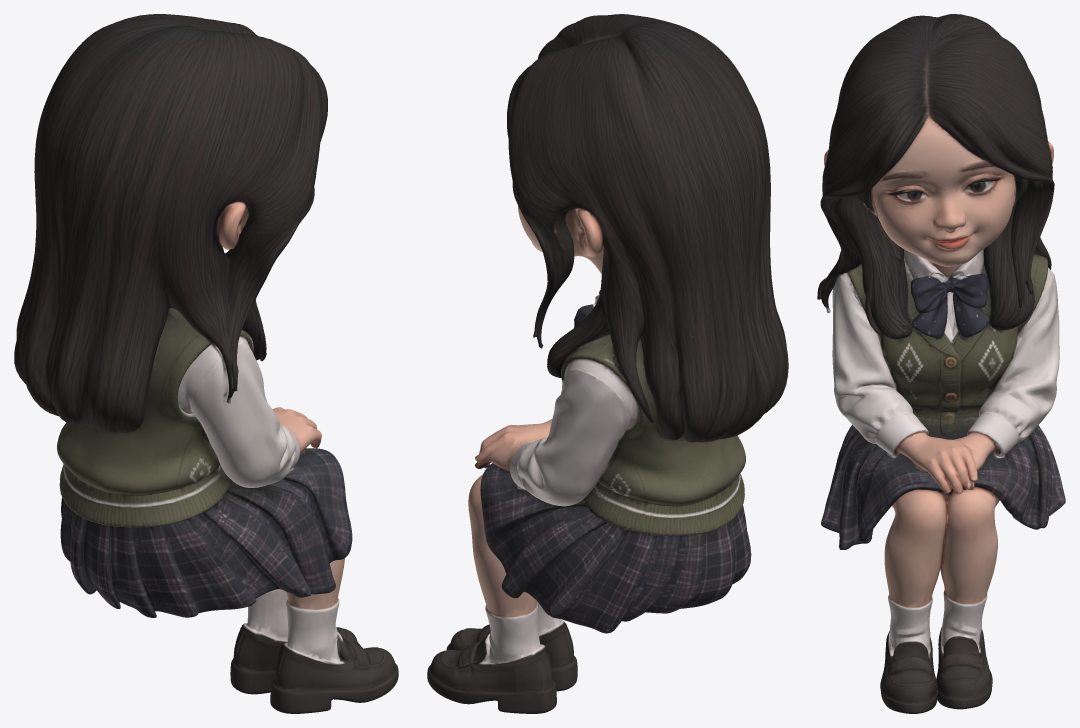
Rendered from 钟梦菲.glb.
The picture shows the model from 3 angles, left to right: view 1: azimuth 30°, elevation 25°; view 2: azimuth 150°, elevation 25°; view 3: azimuth 270°, elevation 25°; orthographic projection. The views are drawn at different scales.
Parts seen in each view (by area): view 1: tripo_node_4d95e8ba-6301-423e-9c8c-e1101a3dbe84; view 2: tripo_node_4d95e8ba-6301-423e-9c8c-e1101a3dbe84; view 3: tripo_node_4d95e8ba-6301-423e-9c8c-e1101a3dbe84.
Part boxes in pixels (bbox=[...]): tripo_node_4d95e8ba-6301-423e-9c8c-e1101a3dbe84: bbox=[14, 14, 398, 713]; tripo_node_4d95e8ba-6301-423e-9c8c-e1101a3dbe84: bbox=[427, 14, 788, 713]; tripo_node_4d95e8ba-6301-423e-9c8c-e1101a3dbe84: bbox=[817, 14, 1065, 713].
Bounding box in the file's own units: 0.5103 × 0.9802 × 0.3649.
1 material, 1 textured.
